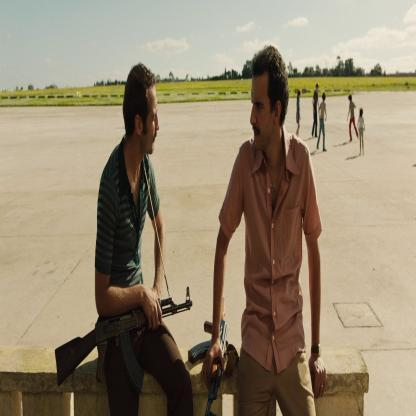gun: (49, 275, 189, 365), (209, 310, 235, 404)
